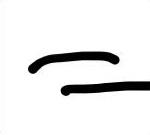eqv: (21, 46, 150, 97)
